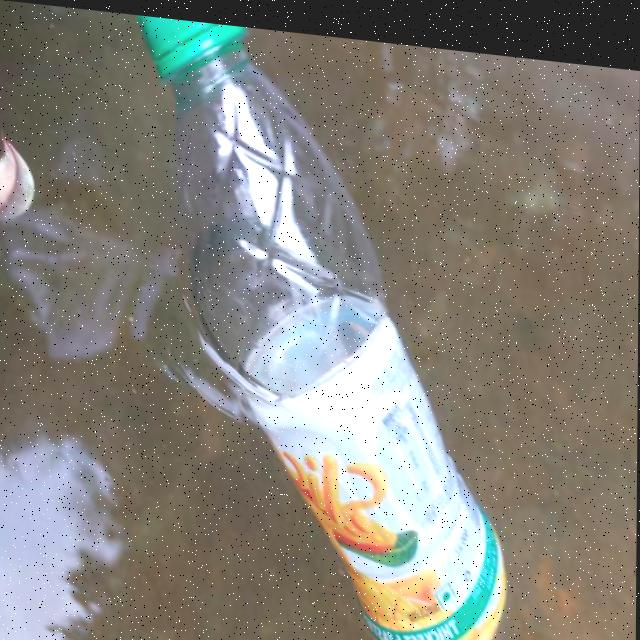leaf: (0, 119, 53, 263)
waterbottle: (128, 12, 516, 640)
